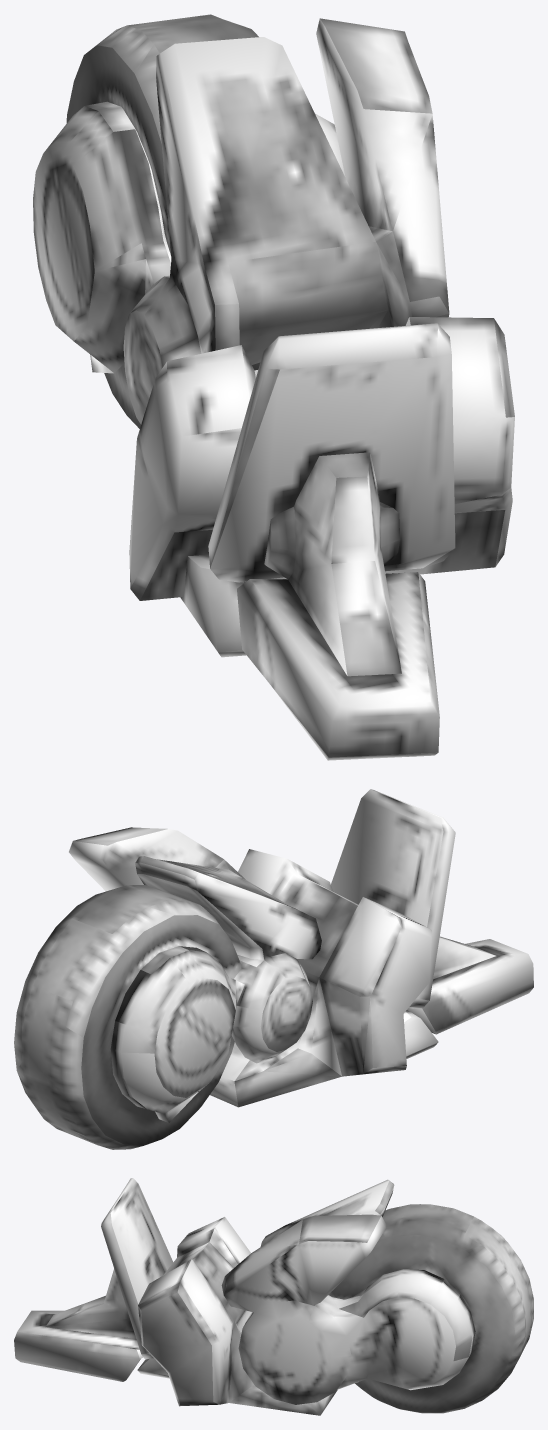
Rendered from r_foot.glb.
3 views of the same model, one above another, from view 1: azimuth 30°, elevation 25°; view 2: azimuth 150°, elevation 25°; view 3: azimuth 270°, elevation 25° (orthographic). The views are drawn at different scales.
Parts seen in each view (by area): view 1: r_foot; view 2: r_foot; view 3: r_foot.
Boxes of the visible parts, x1,y1,x2,y2 form: r_foot: [33, 14, 514, 760]; r_foot: [14, 789, 533, 1149]; r_foot: [14, 1178, 533, 1415].
Bounding box in the file's own units: 1.85 × 1.79 × 4.05.
Materials: 3 (3 with a texture image).
